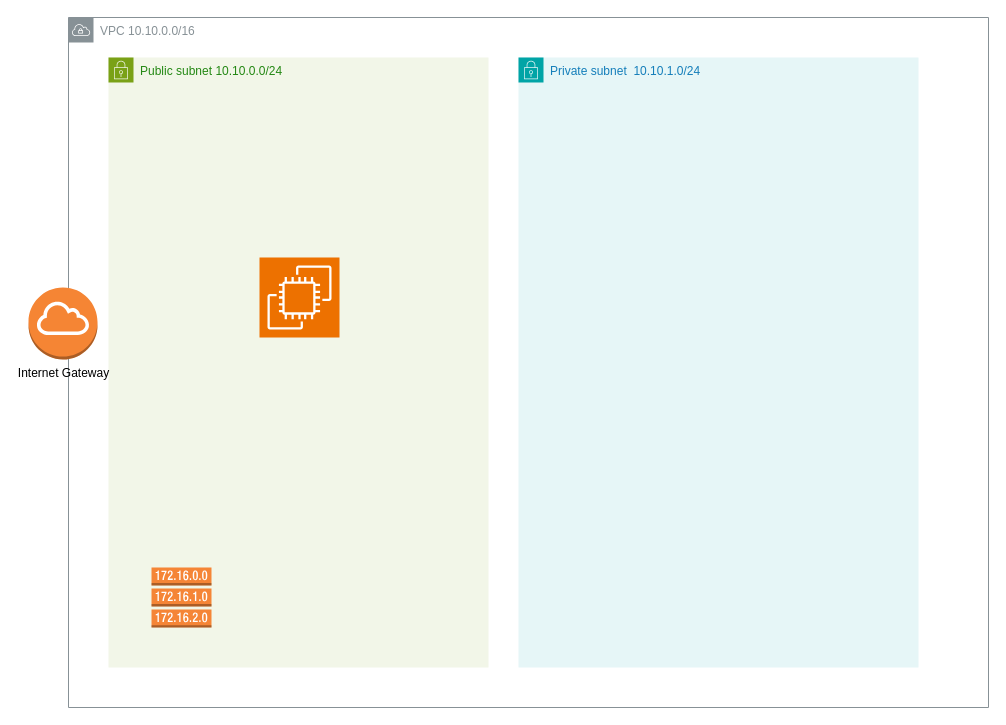
This 1006x725 diagram has some shape labels left out. Each missing label, with the centre of its shape:
"Public CRT" belongs at (x=181, y=597).
"Public Instance" belongs at (x=299, y=297).
